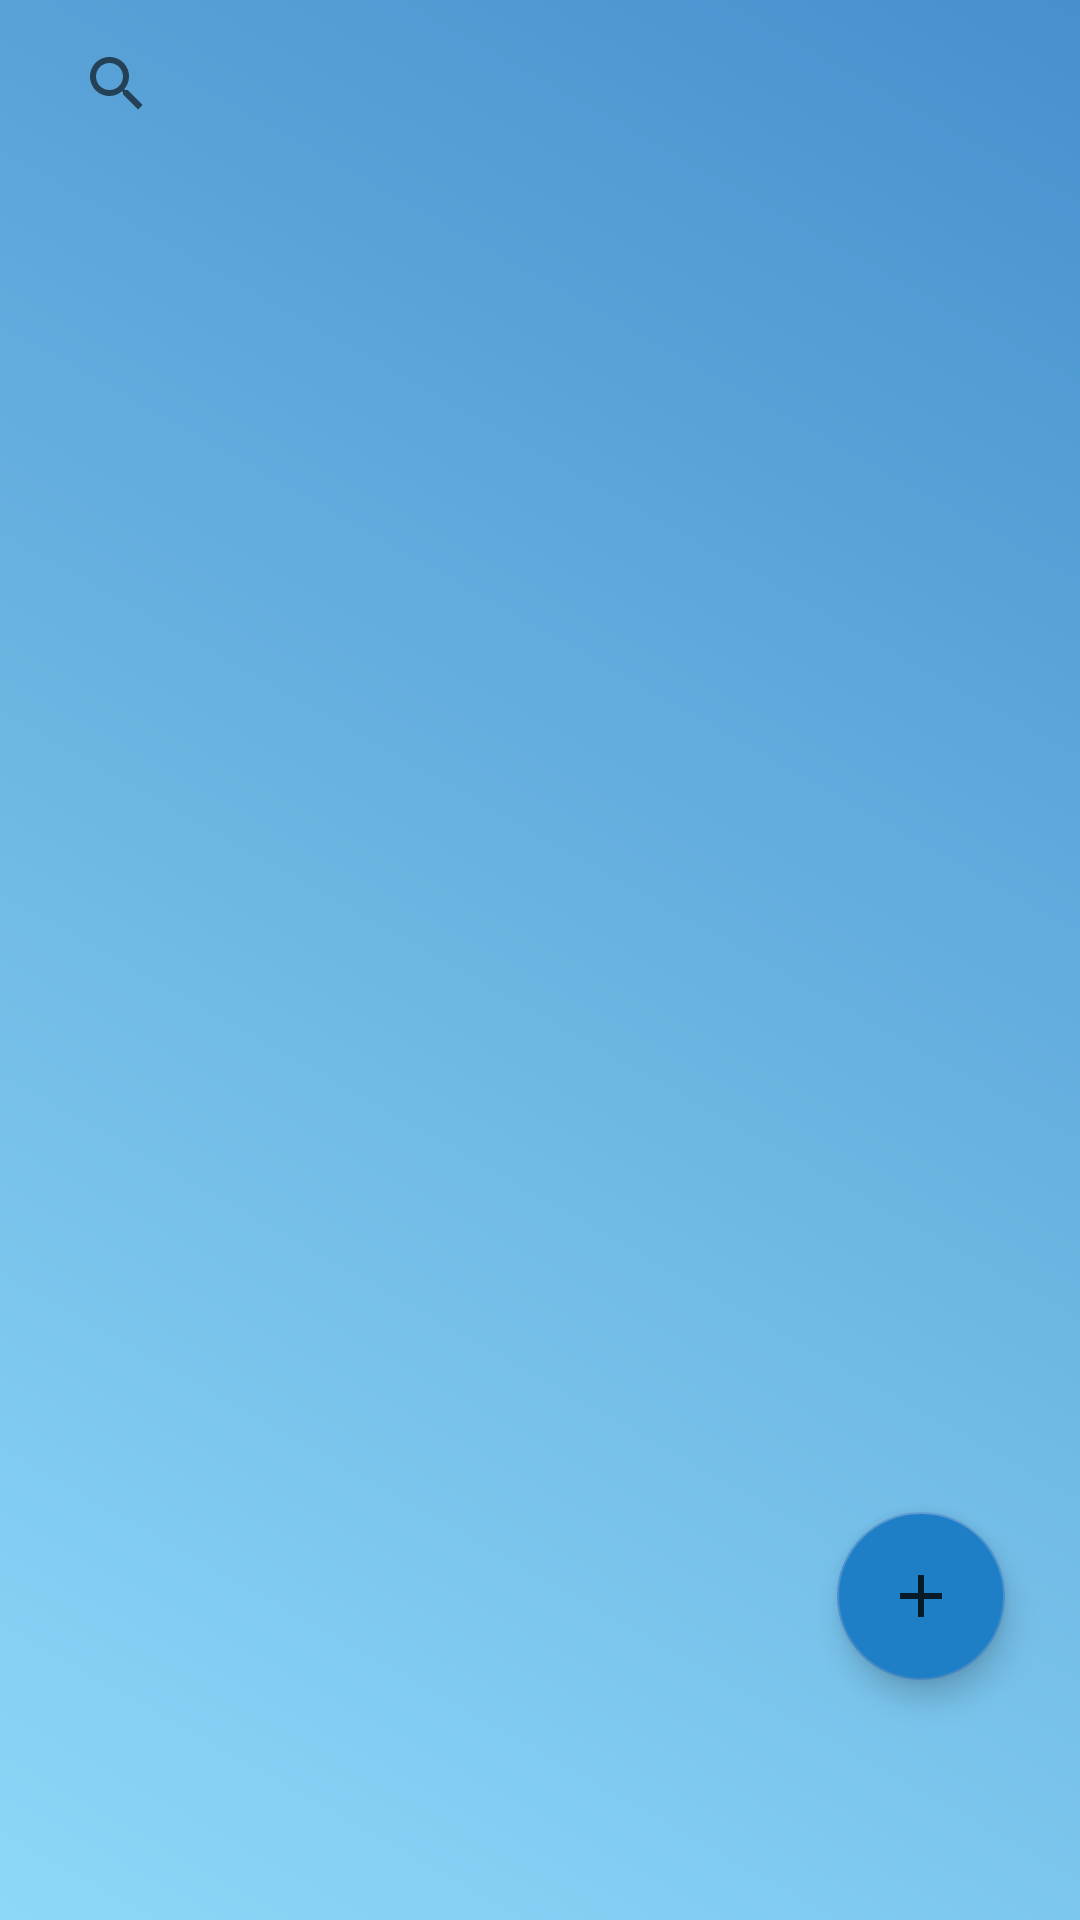

Icon bounding boxes for this 1080×1920 phone screenshot, format box(x1, y1, x2, y2):
add: box(837, 1512, 1005, 1680)
